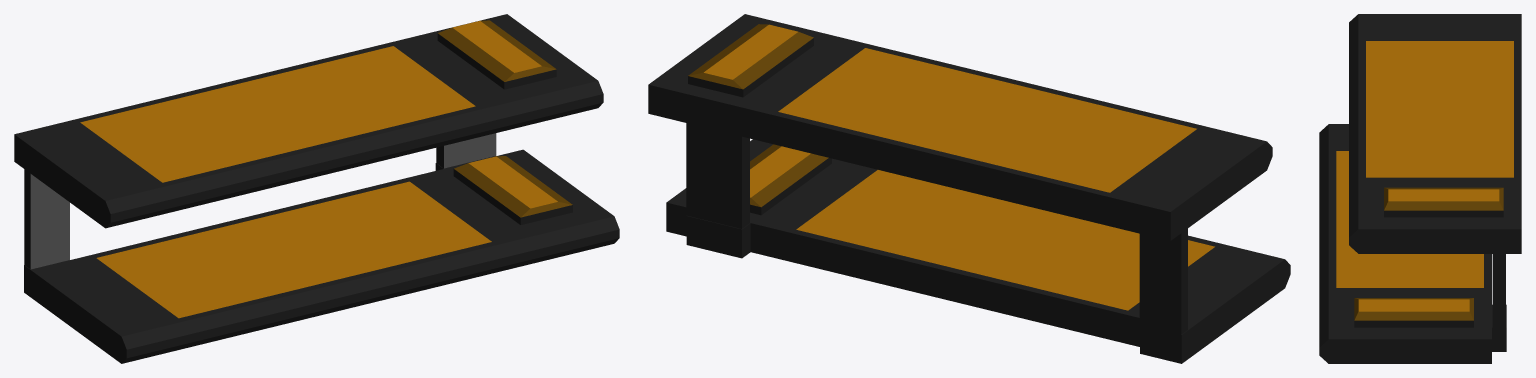
File: bed.fbx
3 renders of one model, left to right at view 1: azimuth 30°, elevation 25°; view 2: azimuth 150°, elevation 25°; view 3: azimuth 270°, elevation 25°, orthographic. The views are drawn at different scales.
Visible parts, largest first — view 1: Plane; view 2: Plane; view 3: Plane.
Boxes of the visible parts, x1,y1,x2,y2 form: Plane: (14,14,619,363); Plane: (648,14,1290,363); Plane: (1319,14,1521,363).
Size of the model in its own units: 591 by 186 by 234.
